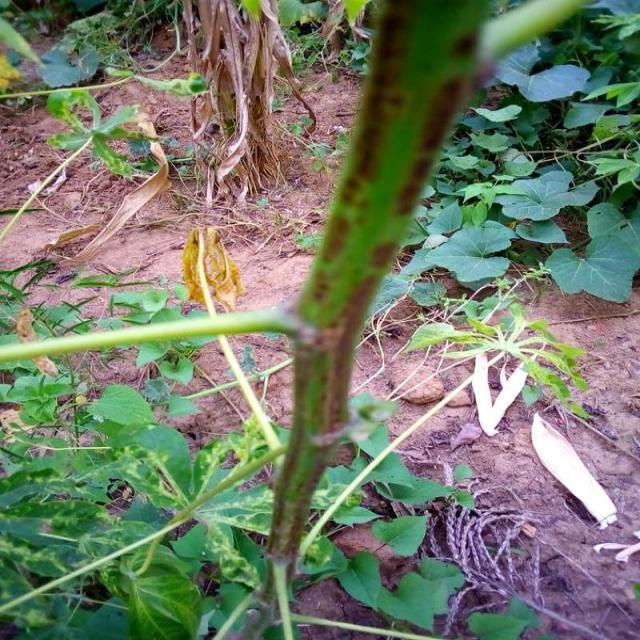cassava leaf: (182, 224, 245, 311)
